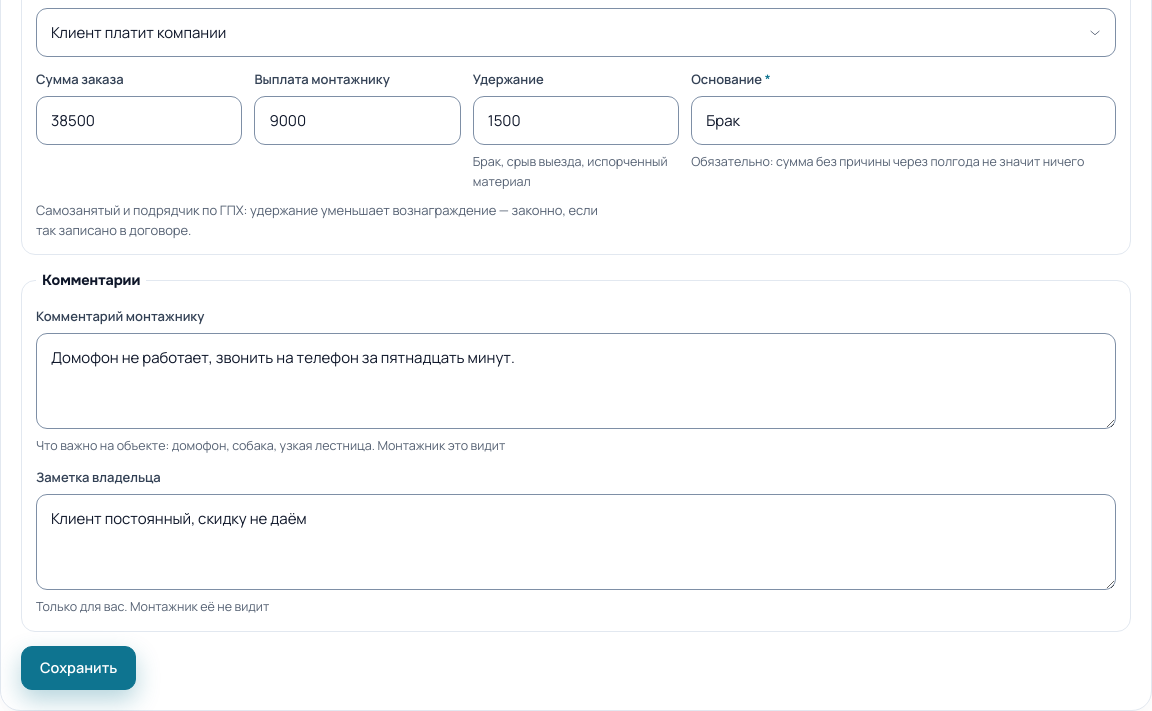
Test: Форма наряда › 🔴 ошибка сервера с полем подсвечивает поле, а не висит внизу
(page scrolled)
Click the button "Сохранить" at (79, 668), box [21,646,136,690]
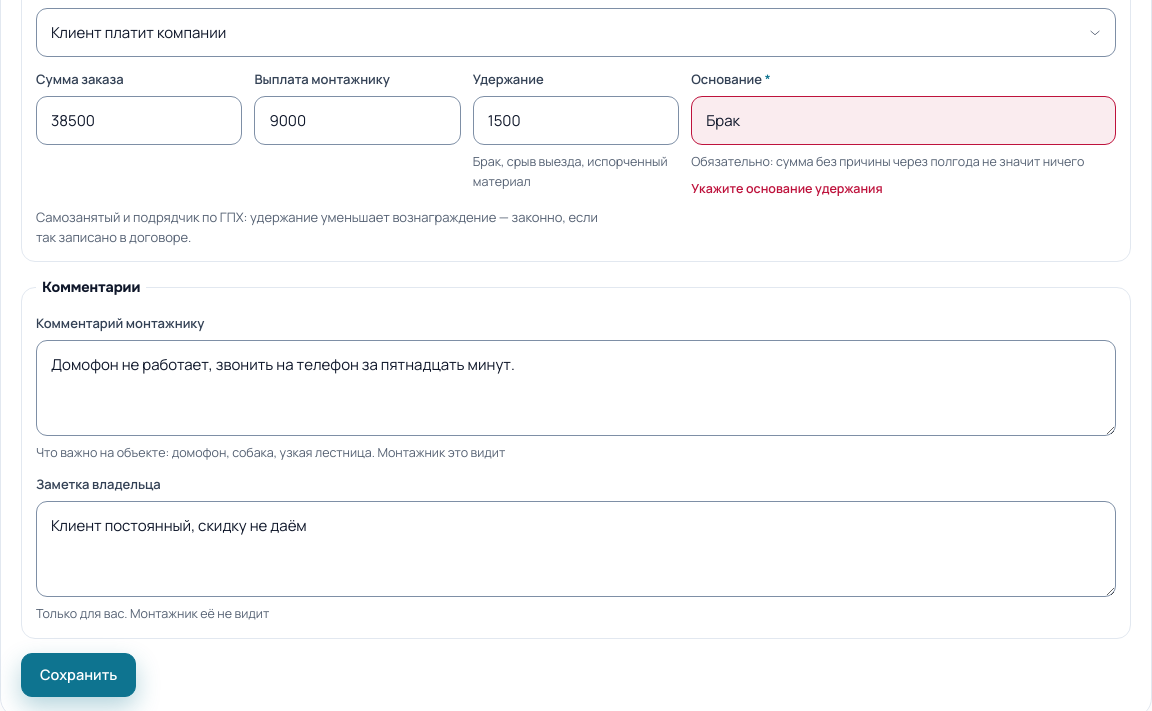
Check: the text "Укажите основание удержания" is shown, box [691,180,883,197]
